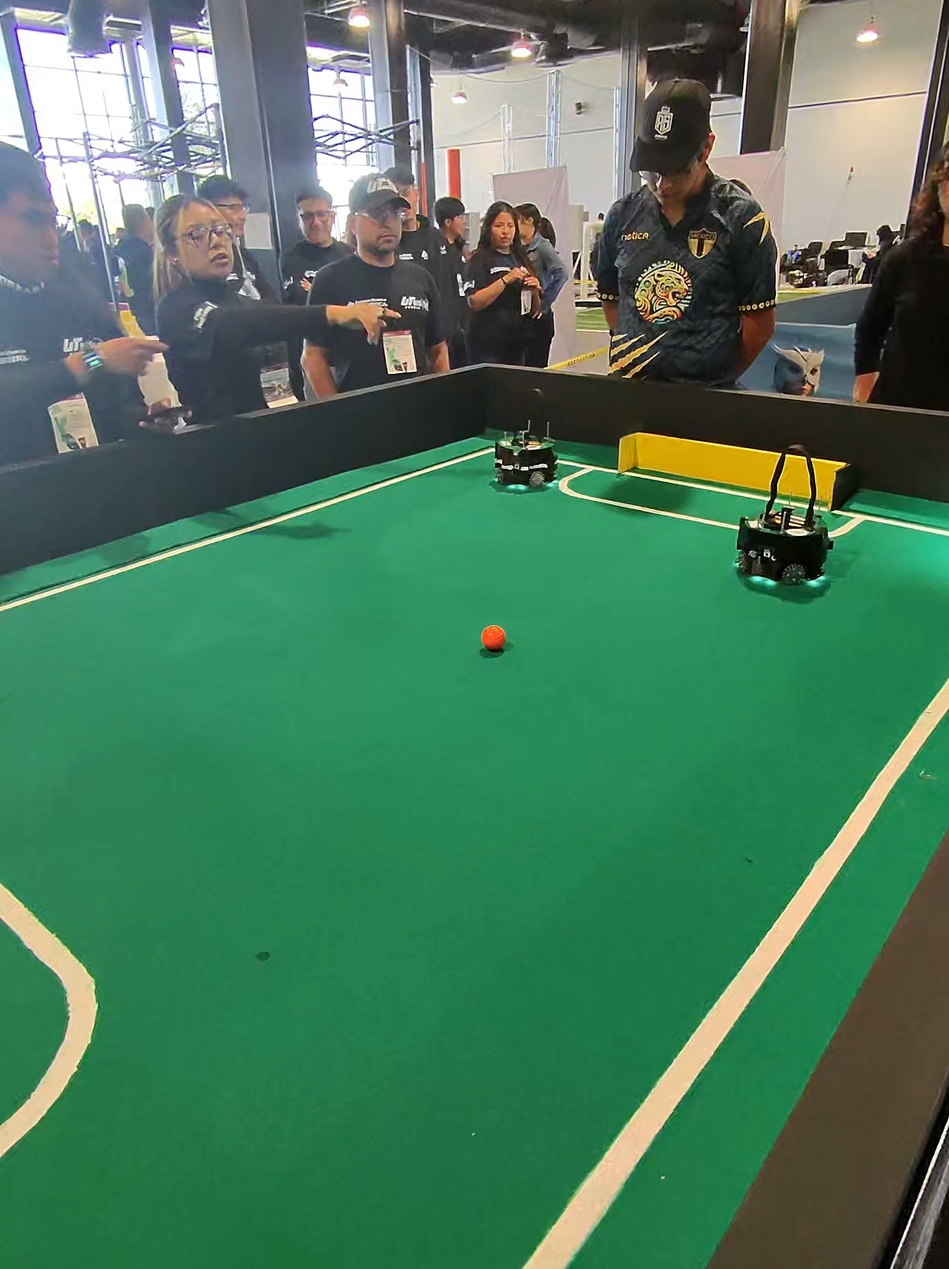Robot: (724, 440, 831, 602), (487, 387, 557, 495)
pelota: (480, 621, 504, 662)
